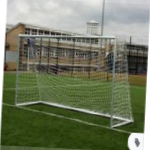goals: (14, 34, 134, 127)
